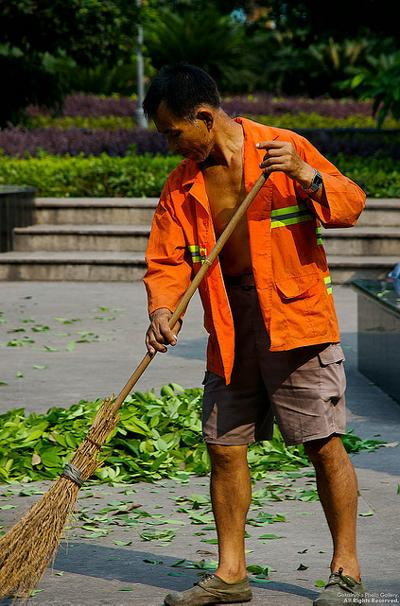person: (142, 56, 368, 603)
